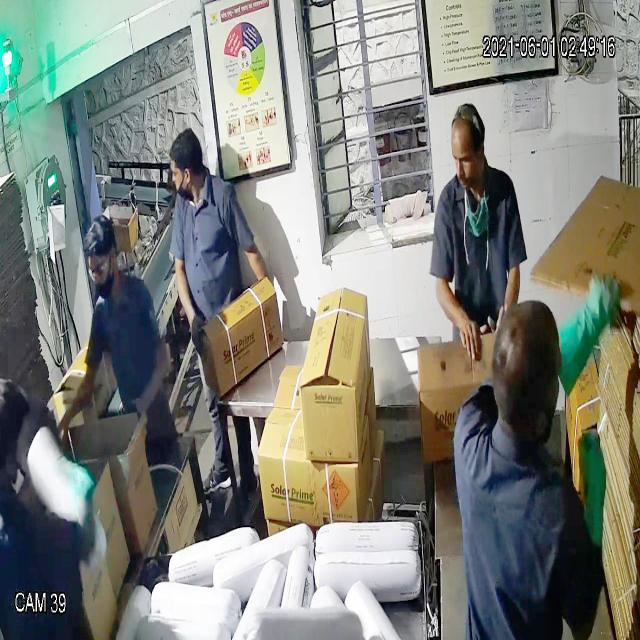glasses: (85, 255, 117, 286)
no-glass: (449, 139, 487, 174)
